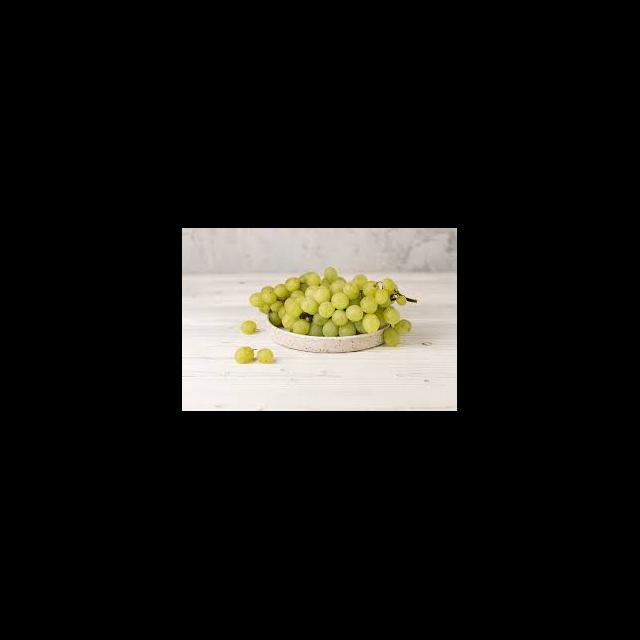grape: (248, 266, 418, 346)
